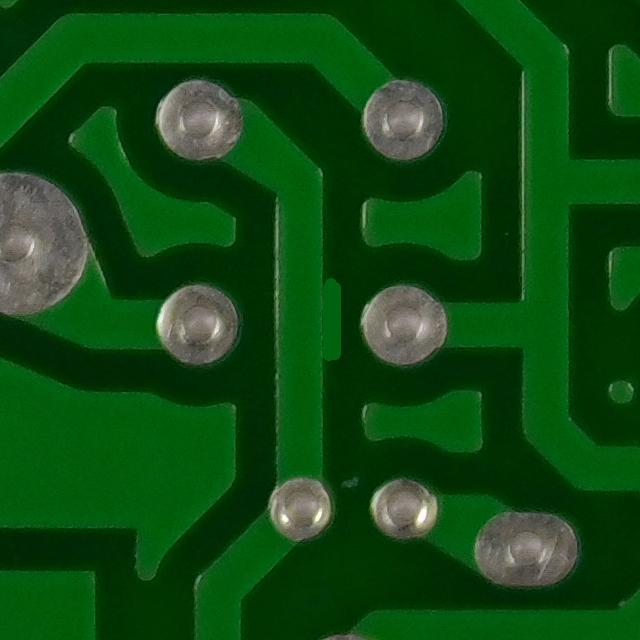spur: (287, 261, 354, 379)
